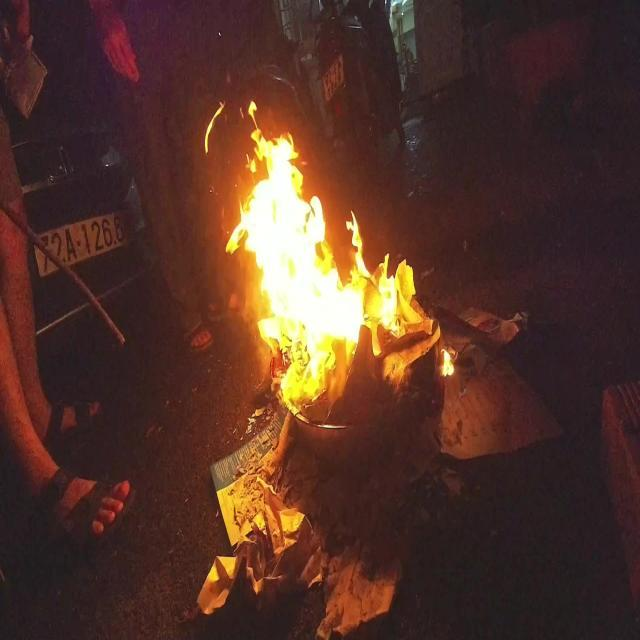Fire: (204, 99, 454, 401)
